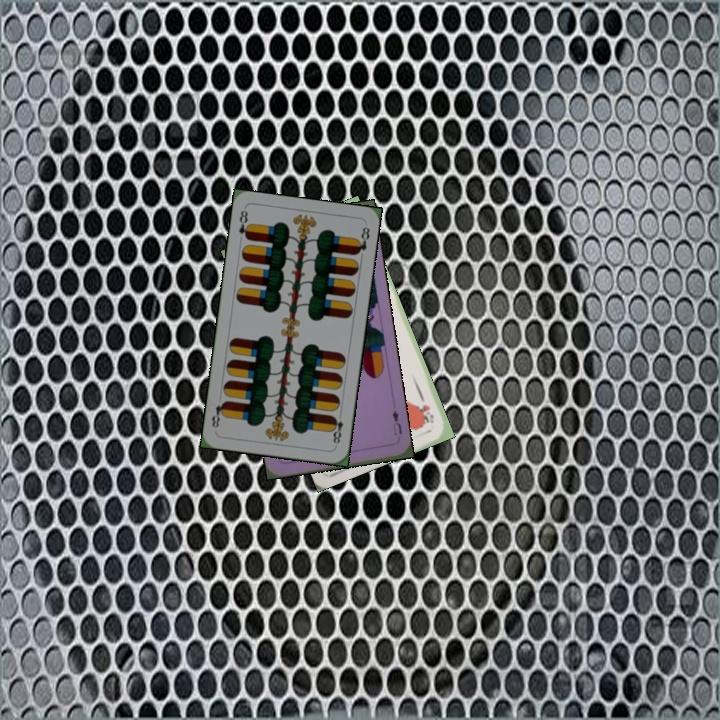E8: (327, 408, 346, 448), (235, 206, 253, 243)
EU: (388, 406, 405, 438)
HO: (415, 389, 436, 426)
